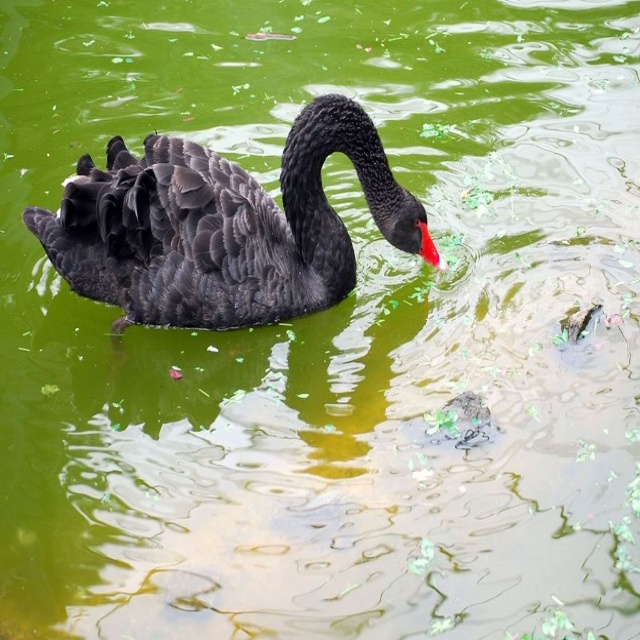Swan: (20, 92, 451, 370)
